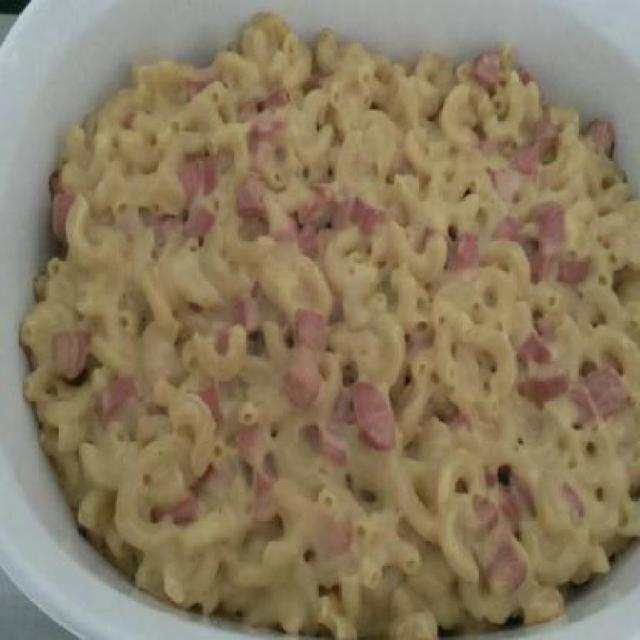hot dog: (169, 192, 585, 270), (293, 314, 385, 460), (179, 80, 290, 192), (507, 326, 621, 416), (53, 323, 133, 431), (470, 462, 530, 600)
macaroni and cheese: (14, 12, 638, 636)
